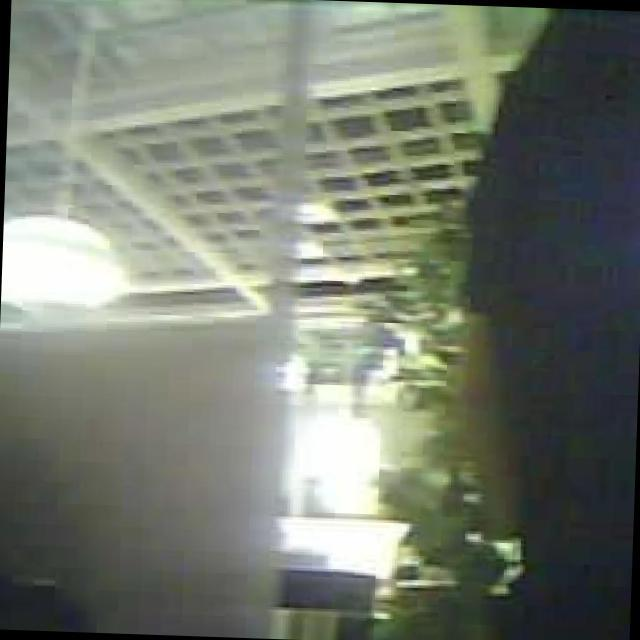person: (456, 6, 640, 640)
